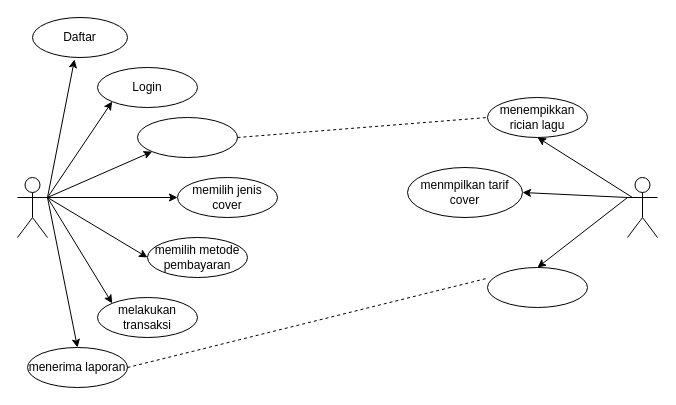
Image size: 676x405. Some labels were removed from this diagram. The box of each missing label's shape, as (x1, y1, x2, y2) in pixels:
memilih lagu: (136, 116, 238, 158)
mengirim validasi: (486, 266, 588, 308)
server: (626, 176, 658, 238)
user: (16, 176, 48, 238)
